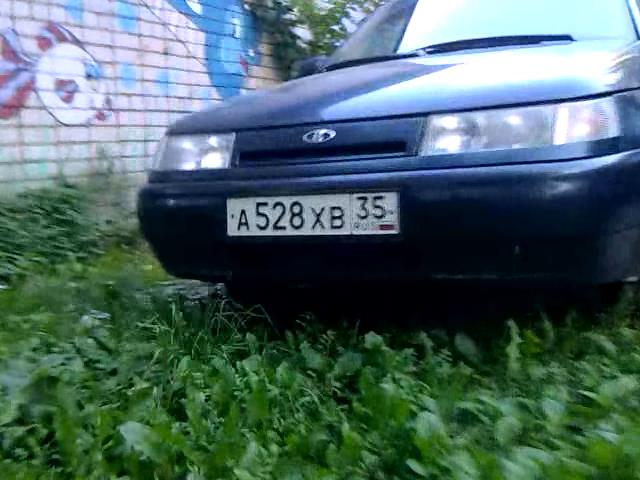car license plate: (224, 191, 405, 240)
